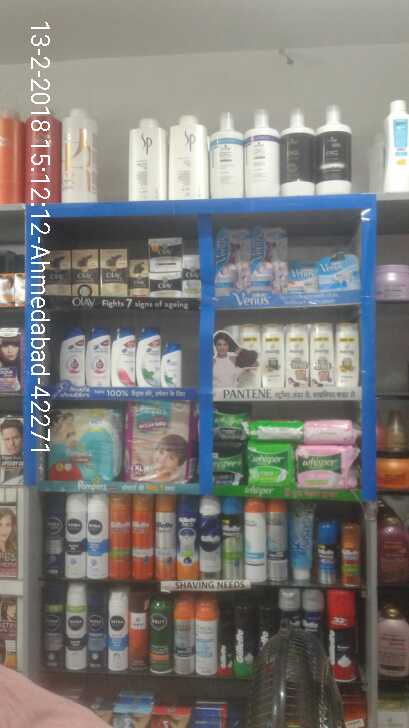gillete: (329, 590, 359, 681), (109, 495, 135, 579), (177, 495, 201, 579), (154, 495, 177, 581), (222, 496, 243, 580), (233, 606, 257, 677), (201, 497, 221, 579), (135, 495, 154, 581), (317, 521, 339, 586), (342, 523, 360, 586), (305, 590, 329, 628), (260, 606, 279, 645), (220, 623, 233, 677)
venus: (218, 225, 252, 297), (252, 227, 286, 297), (320, 253, 358, 292), (288, 260, 320, 292)
